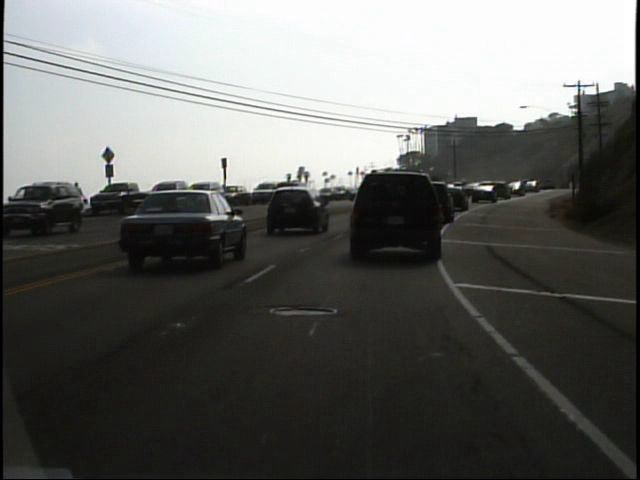person: (68, 179, 88, 219)
